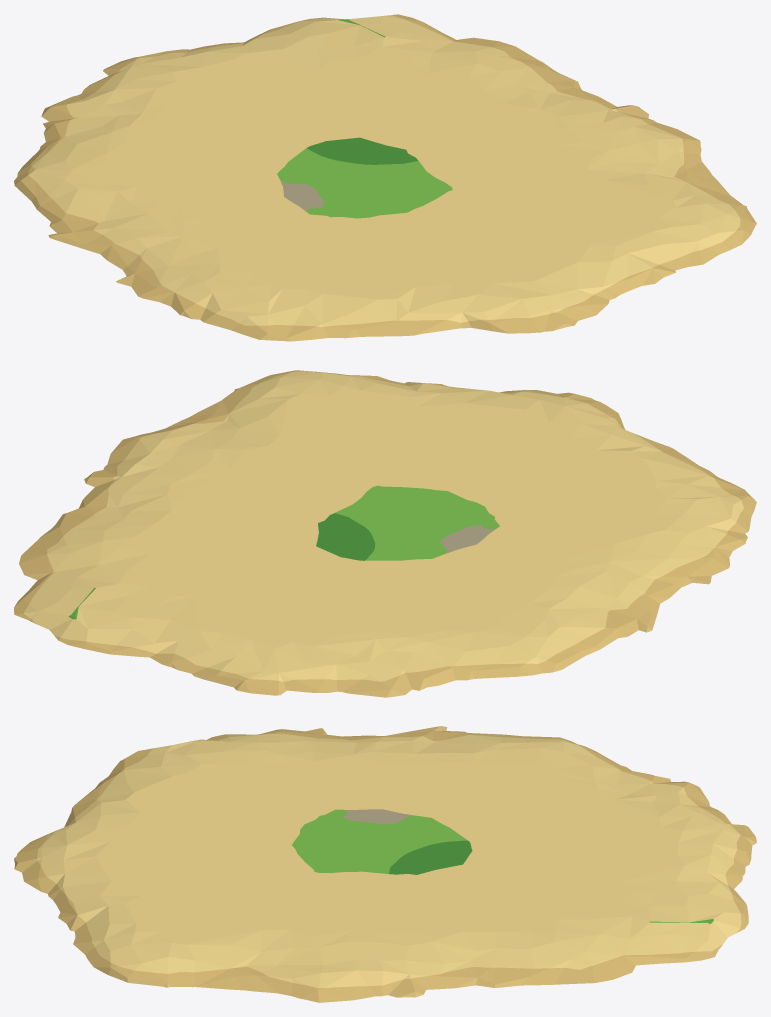
File: Isl-islet1-Ground.fbx
The picture shows the model from 3 angles, top to bottom: view 1: azimuth 30°, elevation 25°; view 2: azimuth 150°, elevation 25°; view 3: azimuth 270°, elevation 25°; orthographic projection. The views are drawn at different scales.
Parts seen in each view (by area): view 1: Isl-islet1-Ground-c21, Isl-islet1-Ground-c11, Isl-islet1-Ground-c22, Isl-islet1-Ground-c12; view 2: Isl-islet1-Ground-c22, Isl-islet1-Ground-c12, Isl-islet1-Ground-c21, Isl-islet1-Ground-c11; view 3: Isl-islet1-Ground-c22, Isl-islet1-Ground-c21, Isl-islet1-Ground-c12, Isl-islet1-Ground-c11.
Boxes of the visible parts, x1=… form: Isl-islet1-Ground-c21: x1=359, y1=116, x2=756, y2=332; Isl-islet1-Ground-c11: x1=107, y1=184, x2=540, y2=341; Isl-islet1-Ground-c22: x1=167, y1=14, x2=652, y2=184; Isl-islet1-Ground-c12: x1=14, y1=51, x2=358, y2=259; Isl-islet1-Ground-c22: x1=14, y1=464, x2=413, y2=681; Isl-islet1-Ground-c12: x1=212, y1=523, x2=668, y2=697; Isl-islet1-Ground-c21: x1=105, y1=370, x2=598, y2=522; Isl-islet1-Ground-c11: x1=414, y1=401, x2=756, y2=598; Isl-islet1-Ground-c22: x1=371, y1=838, x2=751, y2=997; Isl-islet1-Ground-c21: x1=14, y1=838, x2=384, y2=1002; Isl-islet1-Ground-c12: x1=369, y1=726, x2=756, y2=855; Isl-islet1-Ground-c11: x1=17, y1=728, x2=385, y2=853.
Size of the model in its own units: 21.37 by 0.47 by 24.24.
